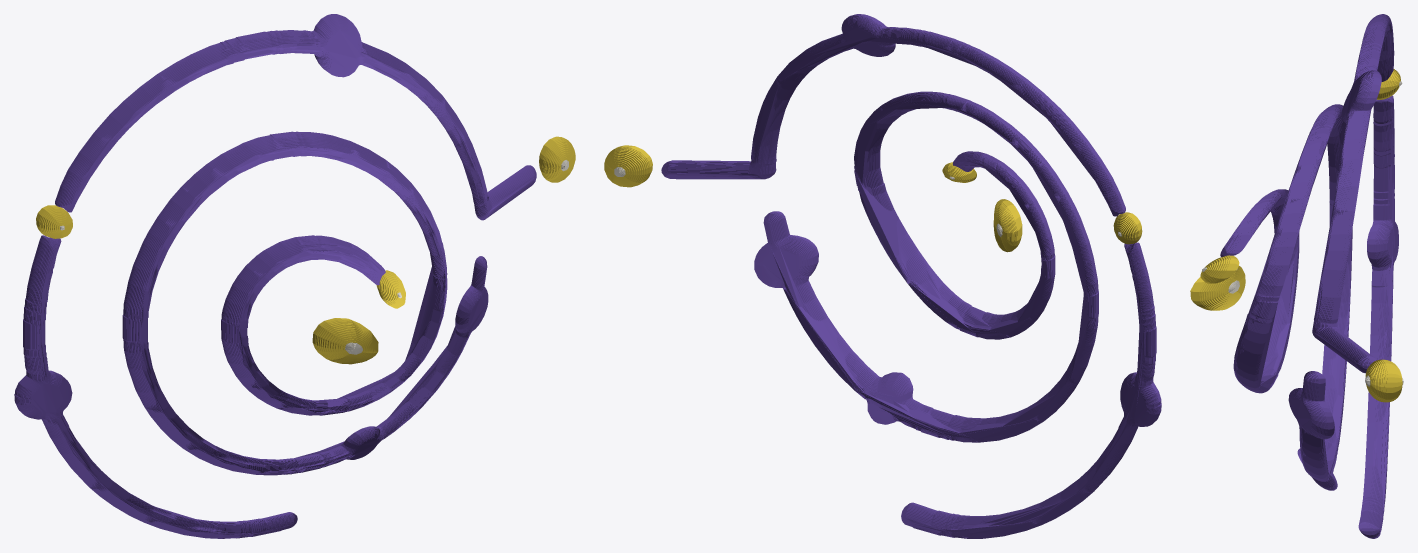
File: spiral-vortex.glb
The picture shows the model from 3 angles, left to right: view 1: azimuth 30°, elevation 25°; view 2: azimuth 150°, elevation 25°; view 3: azimuth 270°, elevation 25°; orthographic projection. The views are drawn at different scales.
Parts seen in each view (by area): view 1: navy, yellow; view 2: navy, yellow; view 3: navy, yellow.
Boxes of the visible parts, x1,y1,x2,y2 form: navy: (14,14,536,538); yellow: (36,136,575,364); navy: (661,14,1161,538); yellow: (604,145,1142,252); navy: (1220,14,1398,538); yellow: (1190,69,1402,402).
Size of the model in its own units: 1.65 by 1.42 by 0.5603.
